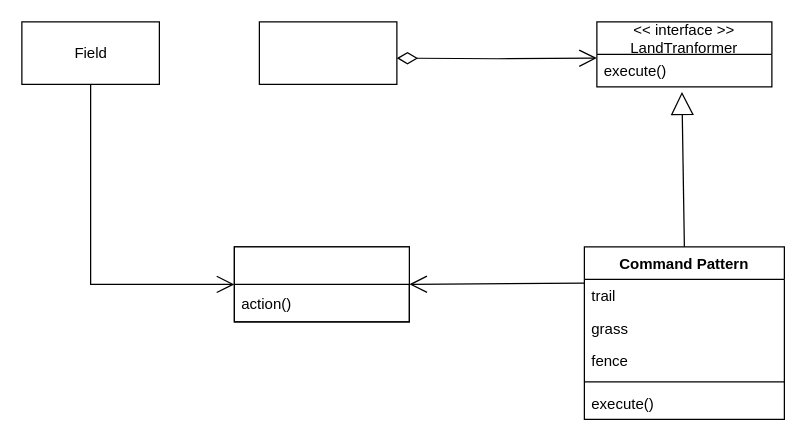
The diagram is 806 pixels wide and 445 high, and some of its shapes have lost their labels. Here are the shapes that lost their labels. From the top down, the centre of each, then its label:
At (327,52): "LandCreate".
At (321,284): "Land".
